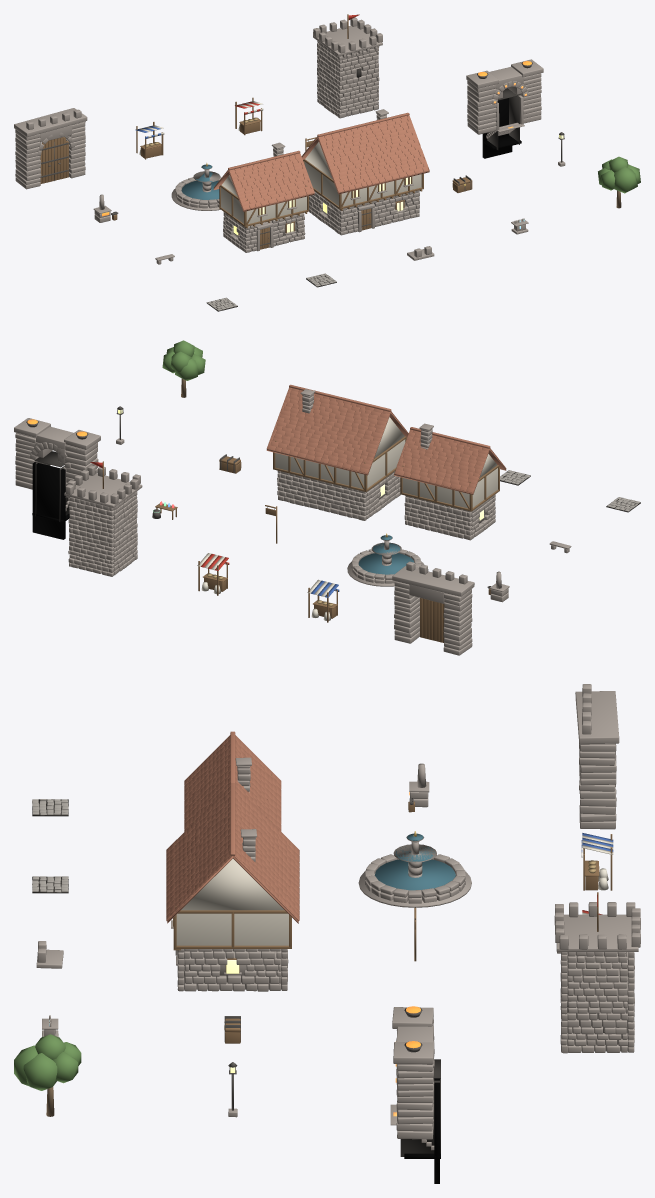
File: kit_ciudad.glb
3 renders of one model, top to bottom at view 1: azimuth 30°, elevation 25°; view 2: azimuth 150°, elevation 25°; view 3: azimuth 270°, elevation 25°, orthographic. The views are drawn at different scales.
Parts seen in each view (by area): view 1: casa_b, casa_a, torre, portal_mazmorra, puerta_ciudad, fuente, arbol, puesto_azul, puesto_rojo; view 2: casa_b, casa_a, torre, portal_mazmorra, puerta_ciudad, fuente, arbol, puesto_azul, puesto_rojo; view 3: casa_b, torre, portal_mazmorra, fuente, puerta_ciudad, casa_a, arbol, puesto_azul, forja.
Part boxes in pixels (bbox=[...]): casa_b: bbox=[301, 109, 429, 235]; casa_a: bbox=[213, 142, 314, 252]; torre: bbox=[313, 14, 382, 118]; portal_mazmorra: bbox=[466, 59, 543, 158]; puerta_ciudad: bbox=[14, 108, 87, 189]; fuente: bbox=[171, 163, 221, 210]; arbol: bbox=[598, 156, 640, 208]; puesto_azul: bbox=[135, 122, 164, 159]; puesto_rojo: bbox=[235, 97, 263, 135]; casa_b: bbox=[266, 384, 408, 520]; casa_a: bbox=[394, 423, 506, 540]; torre: bbox=[64, 461, 142, 576]; portal_mazmorra: bbox=[14, 418, 100, 539]; puerta_ciudad: bbox=[392, 561, 474, 655]; fuente: bbox=[347, 533, 424, 586]; arbol: bbox=[162, 340, 205, 397]; puesto_azul: bbox=[307, 579, 339, 622]; puesto_rojo: bbox=[197, 553, 229, 595]; casa_b: bbox=[166, 783, 299, 991]; torre: bbox=[554, 892, 640, 1053]; portal_mazmorra: bbox=[390, 1006, 440, 1183]; fuente: bbox=[358, 831, 471, 907]; puerta_ciudad: bbox=[575, 684, 619, 829]; casa_a: bbox=[184, 731, 281, 831]; arbol: bbox=[14, 1034, 81, 1116]; puesto_azul: bbox=[581, 833, 613, 890]; forja: bbox=[408, 763, 429, 812].
Bounding box in the file's own units: 46.47 × 12.41 × 34.37.
